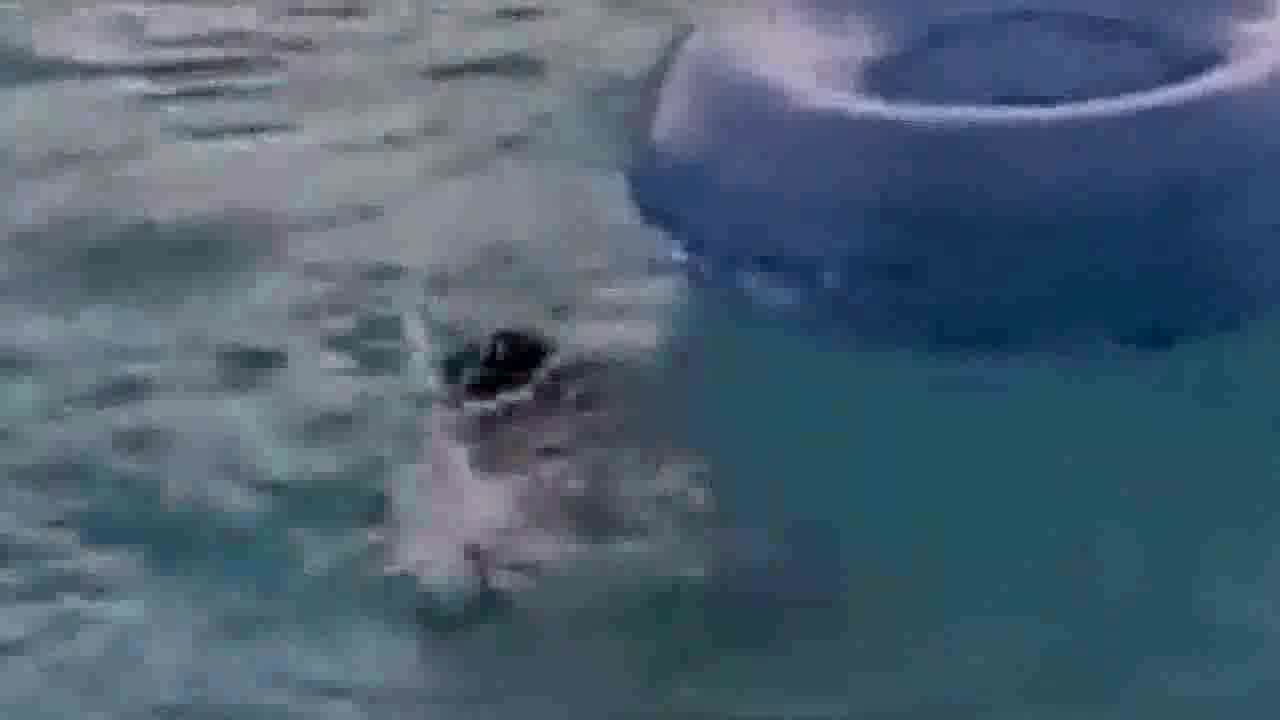Drowning: (376, 279, 775, 609)
